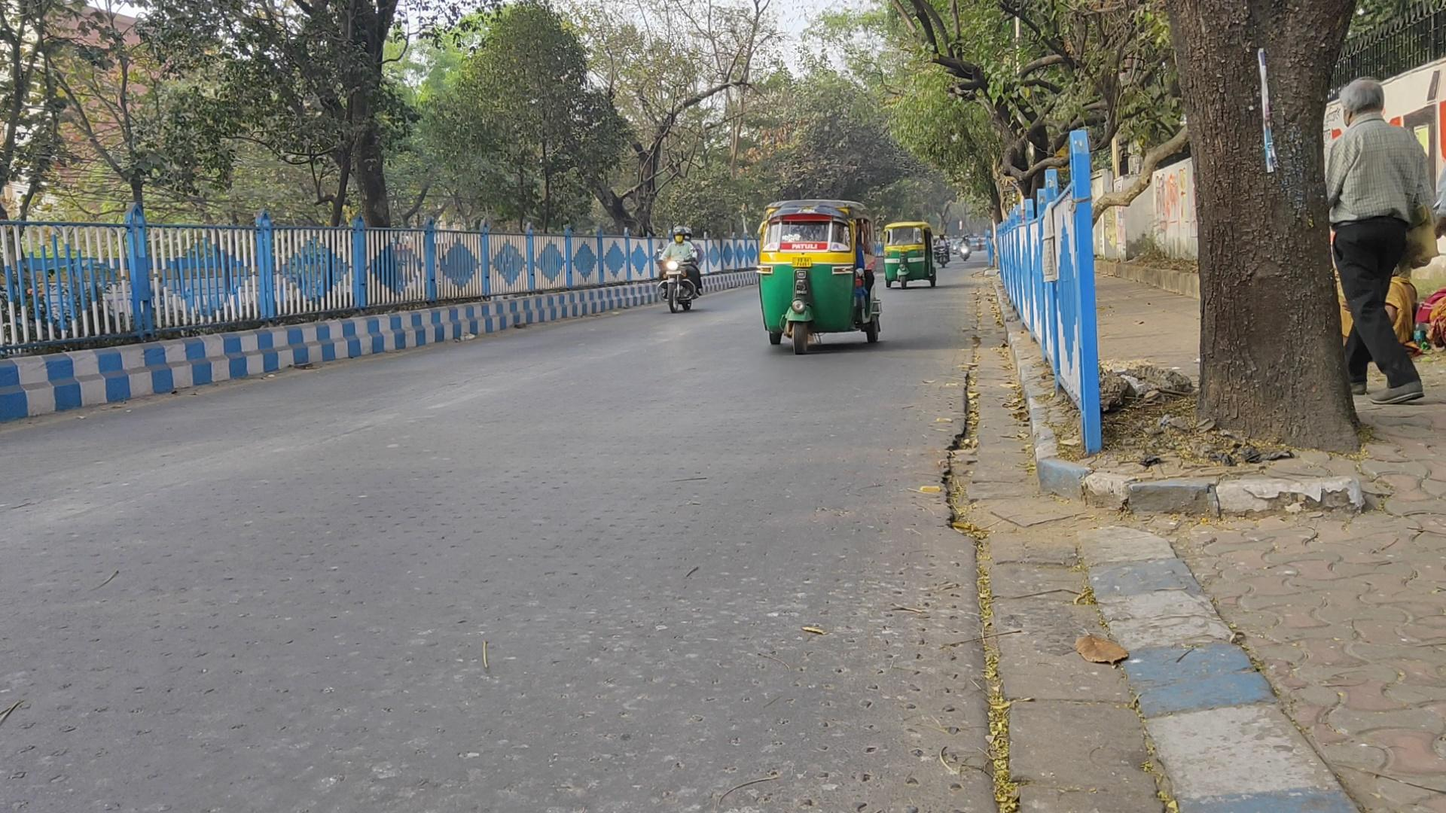Auto: (755, 197, 882, 356), (880, 219, 938, 291)
bike: (657, 224, 700, 312), (935, 233, 951, 270), (957, 234, 972, 262)
